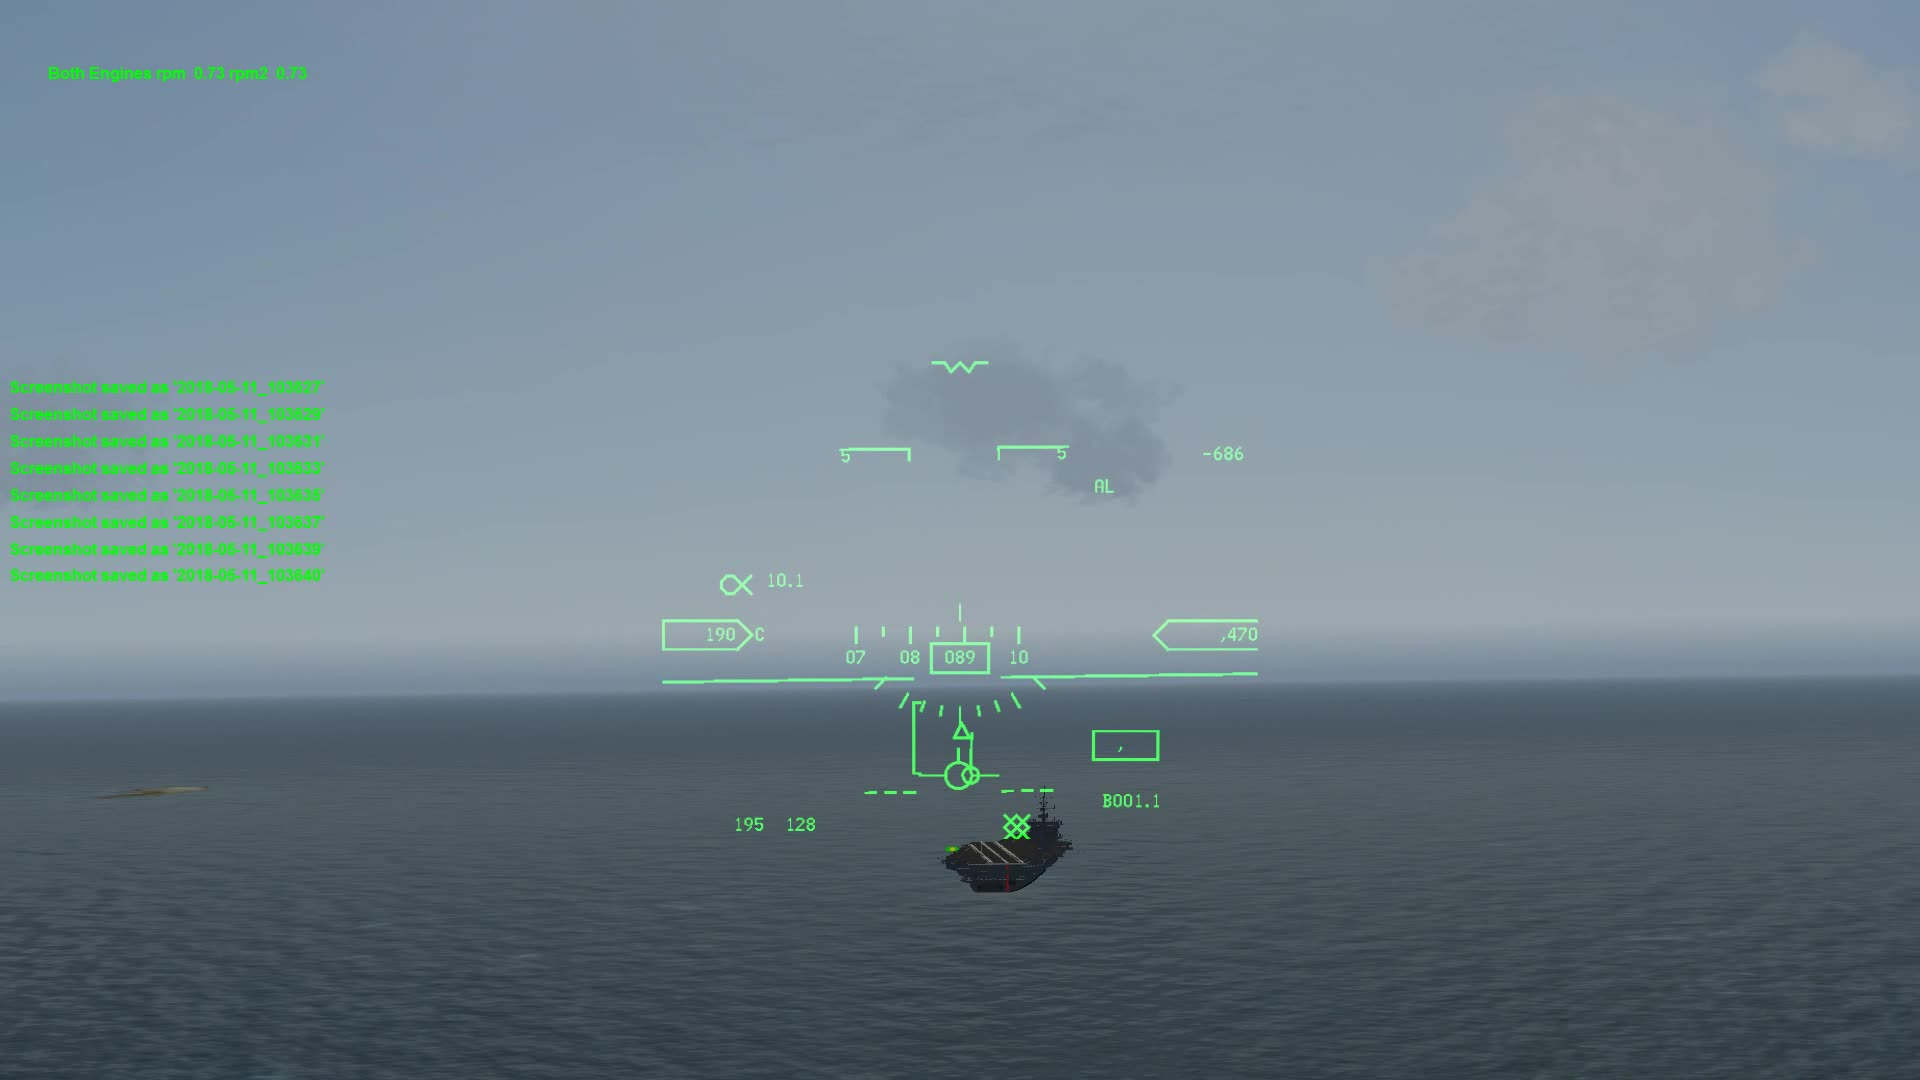speed vector: (915, 752, 1005, 798)
